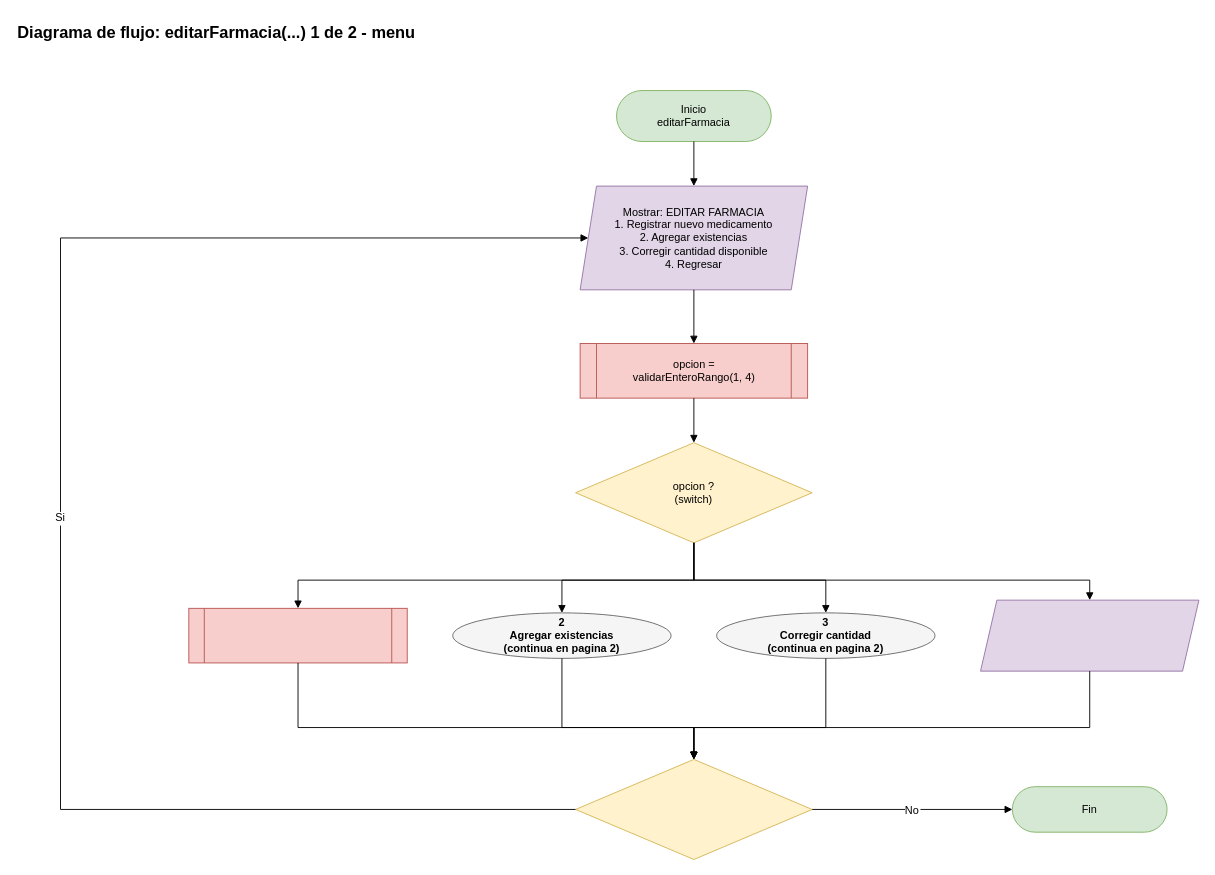
This 1215x875 diagram has some shape labels left out. Here are the shapes that lost their labels. From the top down, the box of each, then its label:
(188, 607, 407, 663): 1 registrarMedicamento()
(980, 599, 1199, 671): 4 Mostrar: Regresando al menu principal.
(575, 758, 812, 859): opcion != 4 ?
